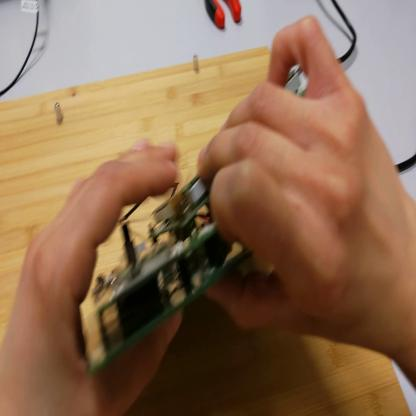hand: (197, 18, 413, 359), (2, 136, 182, 415)
low voltage board: (83, 73, 303, 390)
pliers: (204, 2, 244, 30)
working area: (2, 47, 412, 415)
